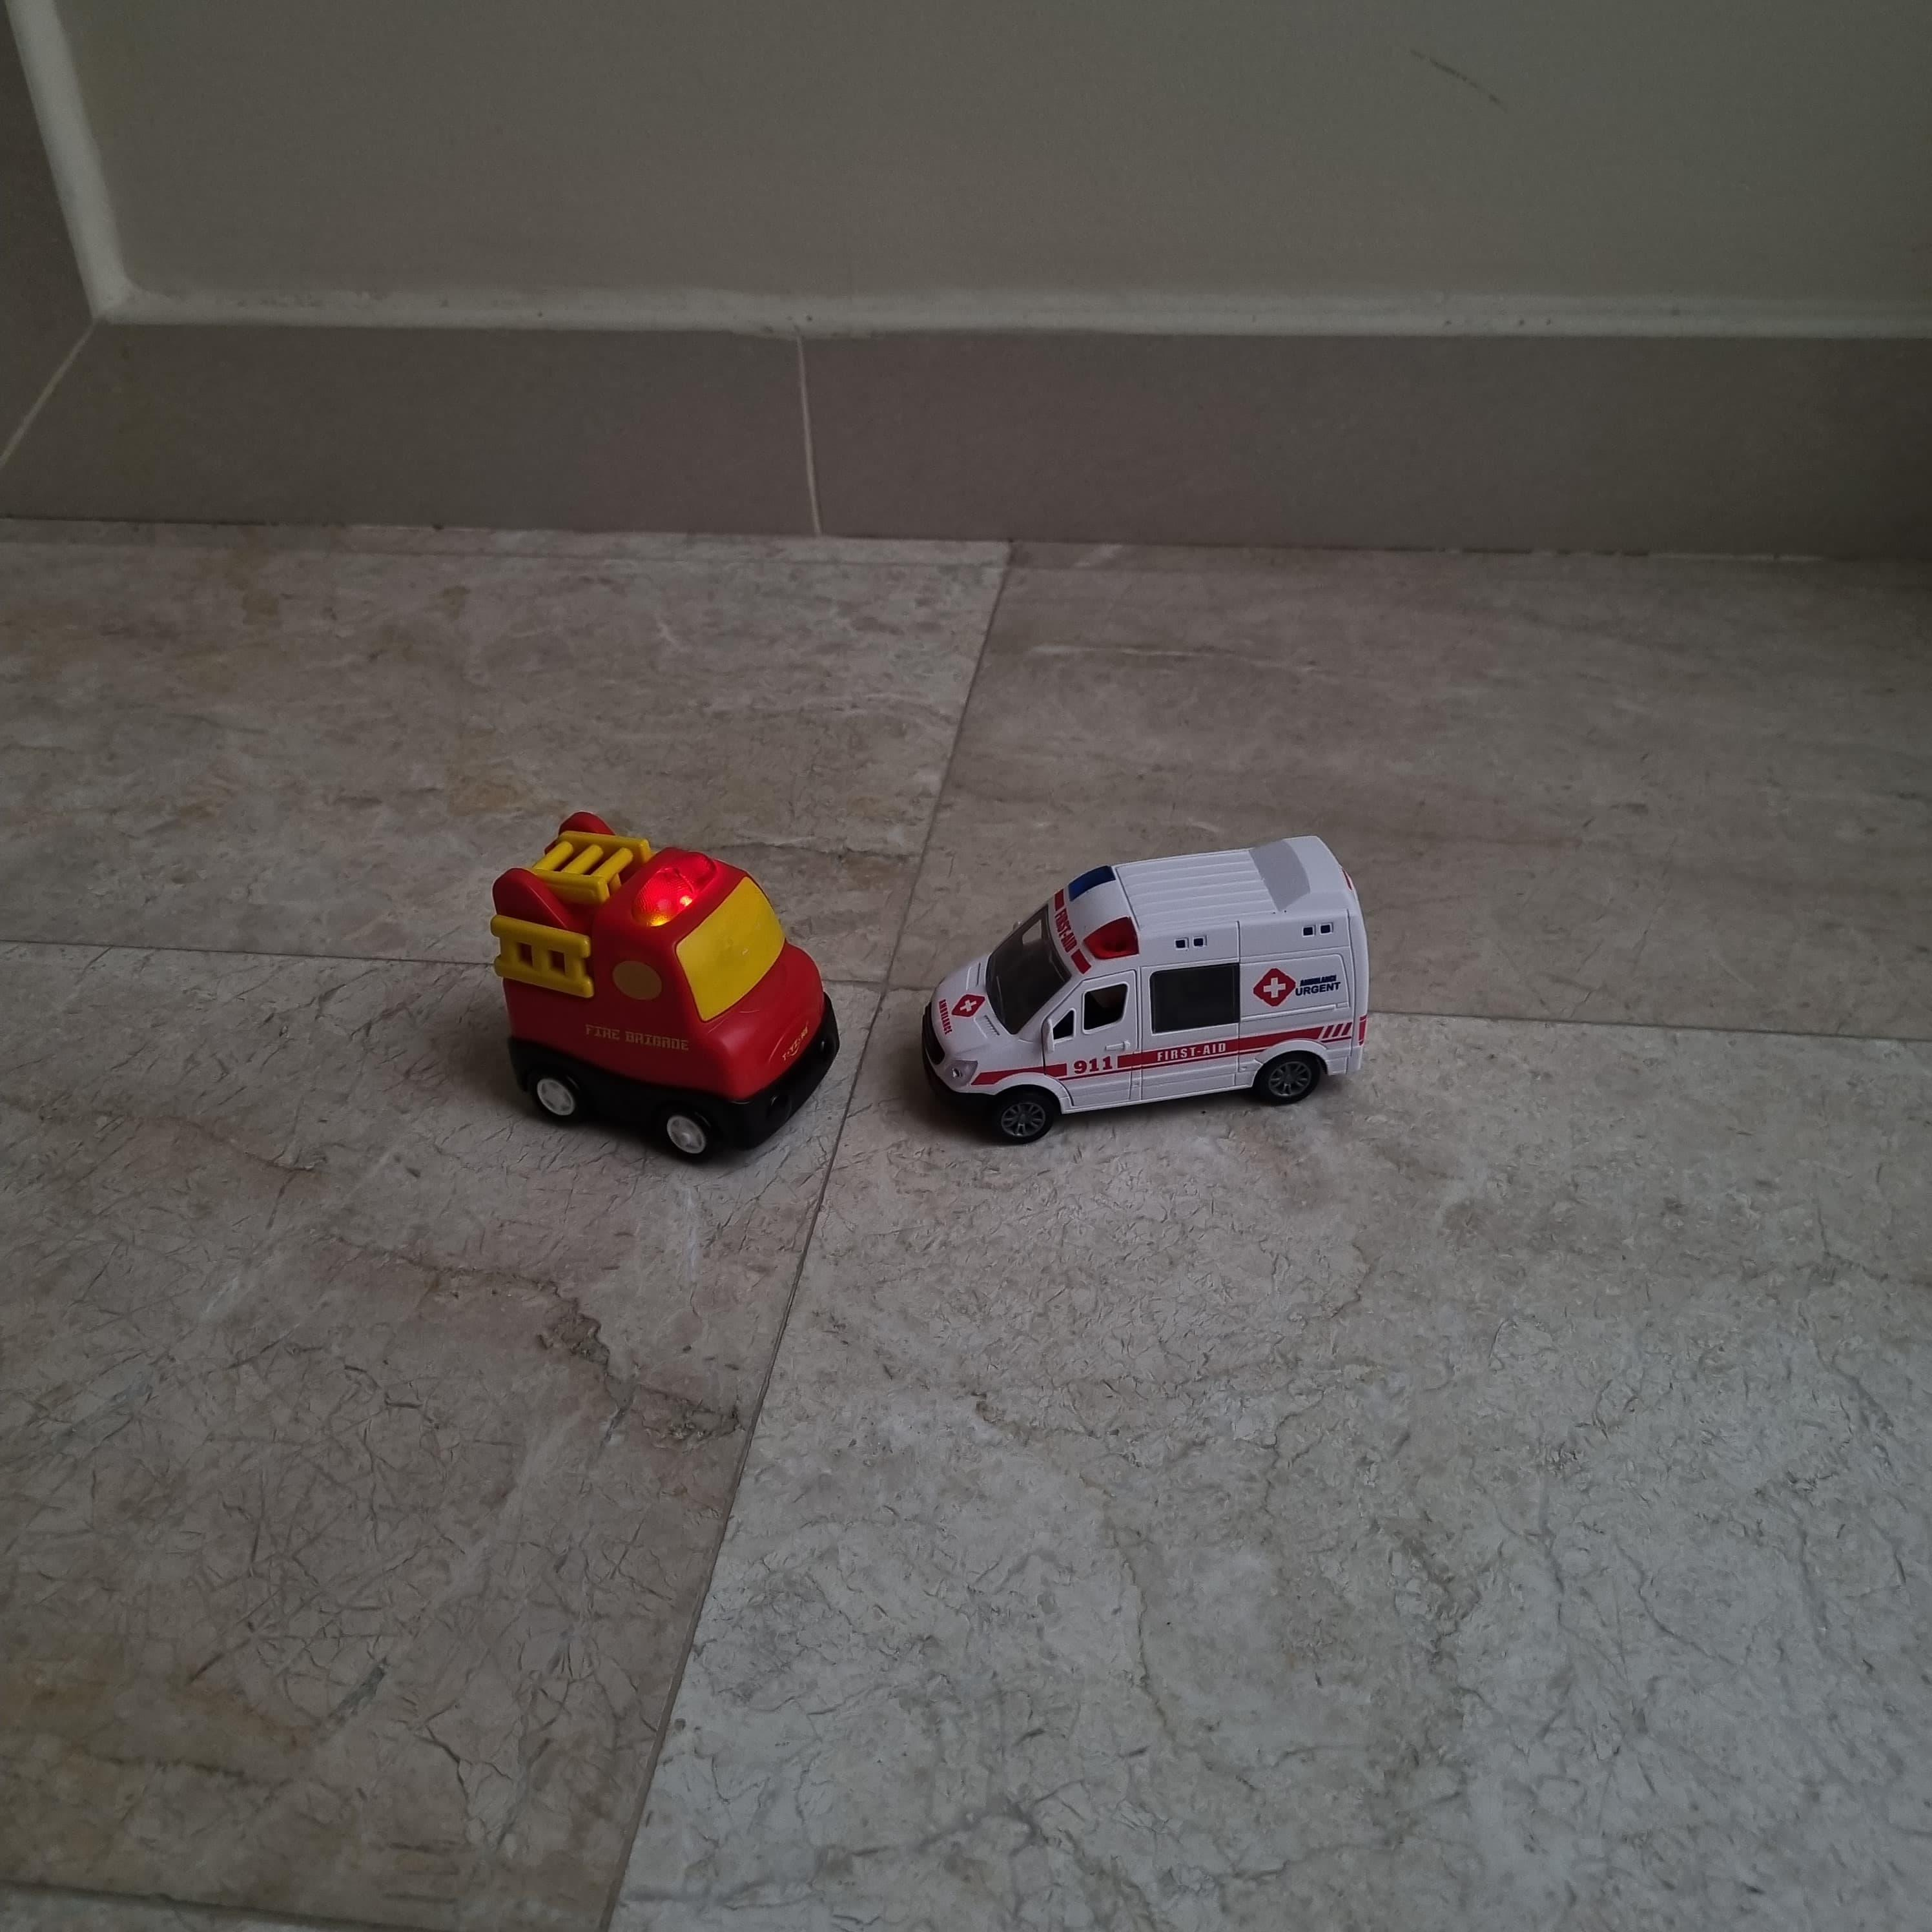ambulance_off: (918, 835, 1371, 1145)
firetruck_on: (492, 810, 839, 1166)
